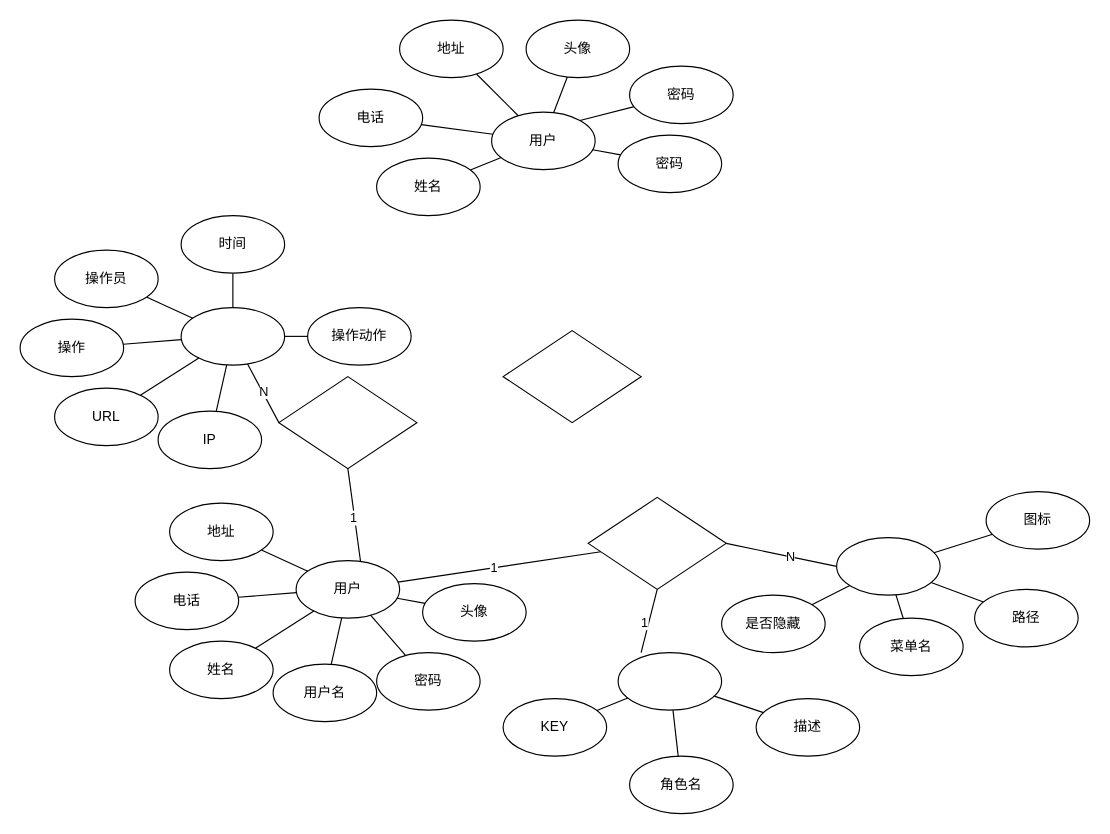
The diagram is 1110 pixels wide and 834 high, and some of its shapes have lost their labels. Here are the shapes that lost their labels. From the top down, the centre of each, then its label:
At point 232,335: "日志".
At point 571,376: "浏览".
At point 347,422: "登录/注销 等操作".
At point 656,542: "权限".
At point 887,565: "菜单".
At point 669,680: "角色".
